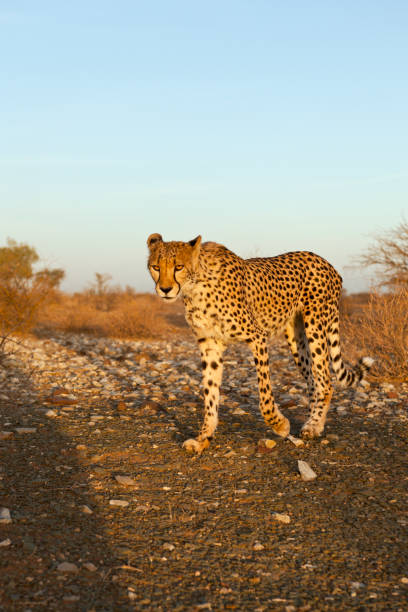cheetah: (134, 225, 209, 315)
